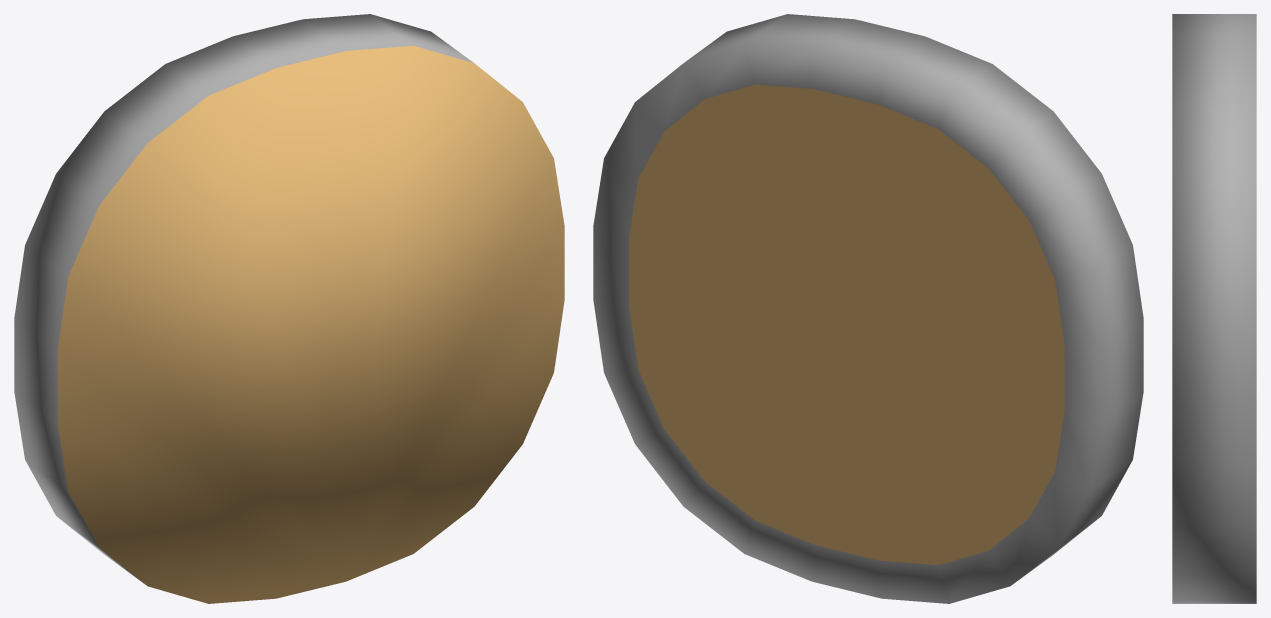
File: bus_headlight.fbx
3 renders of one model, left to right at view 1: azimuth 30°, elevation 25°; view 2: azimuth 150°, elevation 25°; view 3: azimuth 270°, elevation 25°, orthographic. The views are drawn at different scales.
Visible parts, largest first — view 1: Cube; view 2: Cube; view 3: Cube.
Part boxes in pixels (x1,y1,x2,y2): Cube: [14, 14, 564, 603]; Cube: [593, 14, 1143, 603]; Cube: [1172, 14, 1256, 603].
Bounding box in the file's own units: 25.77 × 25.77 × 3.81.
